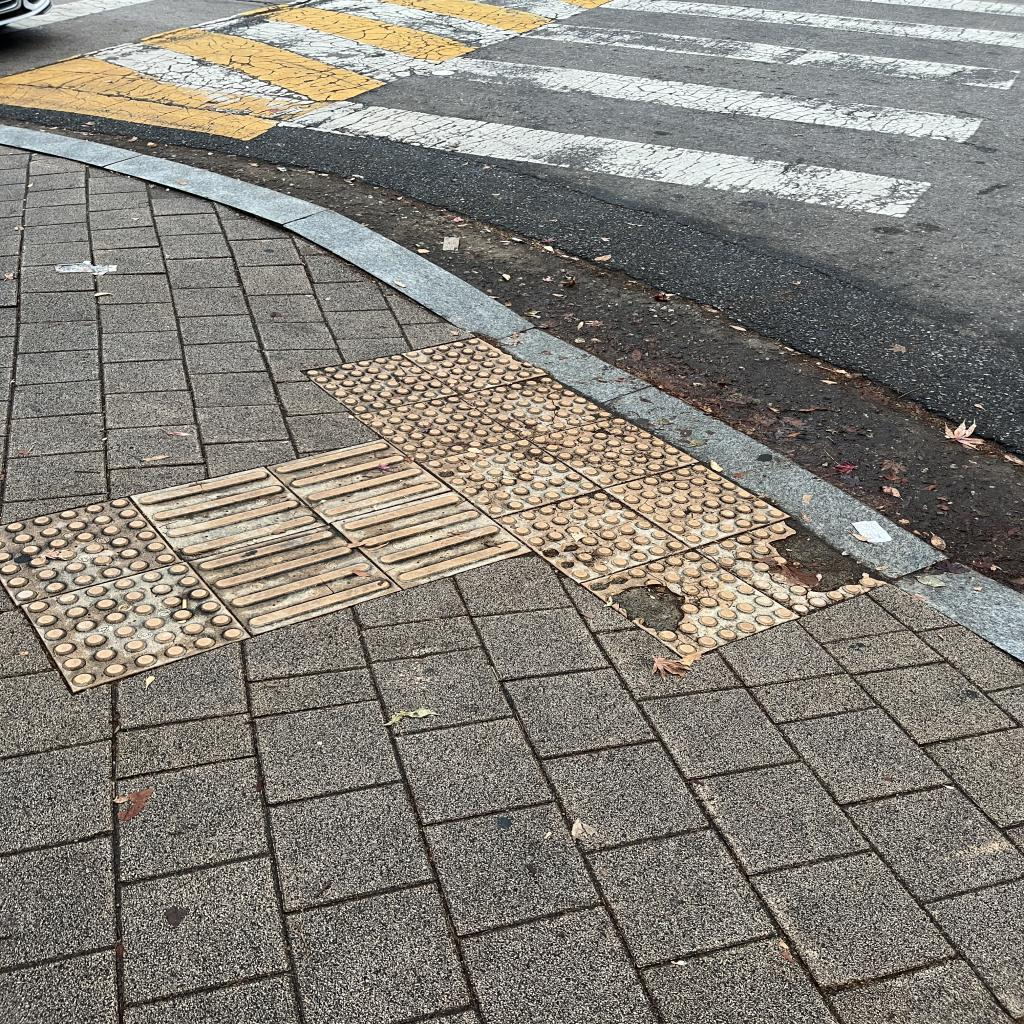Stop block broken: (577, 509, 799, 697), (696, 484, 890, 648)
Stop block normal: (24, 543, 249, 698), (603, 428, 789, 580), (497, 469, 686, 599), (422, 421, 600, 531), (529, 398, 695, 502)
Straight block normal: (190, 504, 399, 647), (333, 470, 529, 602), (132, 452, 324, 569), (268, 423, 449, 533)
